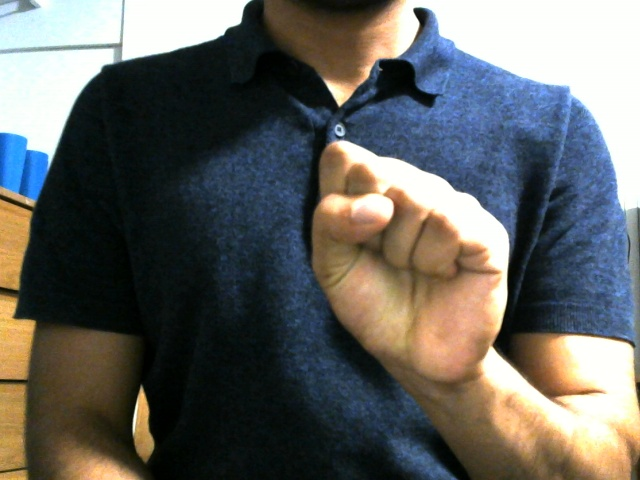S: (302, 135, 513, 381)
